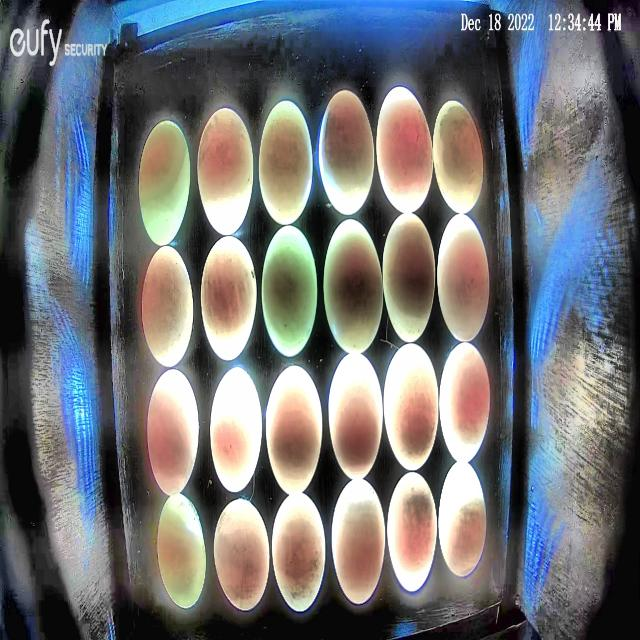UF: (324, 216, 384, 354), (196, 105, 255, 237), (265, 364, 324, 496), (262, 222, 318, 360), (376, 84, 434, 215), (318, 88, 376, 218), (200, 233, 258, 362), (383, 342, 440, 472), (381, 211, 436, 344), (328, 351, 384, 481), (437, 210, 491, 344), (331, 475, 386, 605), (146, 366, 200, 498), (258, 99, 313, 226), (138, 118, 192, 247), (209, 366, 263, 493), (271, 492, 327, 614), (141, 244, 195, 368), (439, 339, 491, 464), (213, 498, 270, 611), (387, 472, 438, 592), (157, 492, 208, 610), (433, 99, 484, 214), (438, 459, 487, 577)
